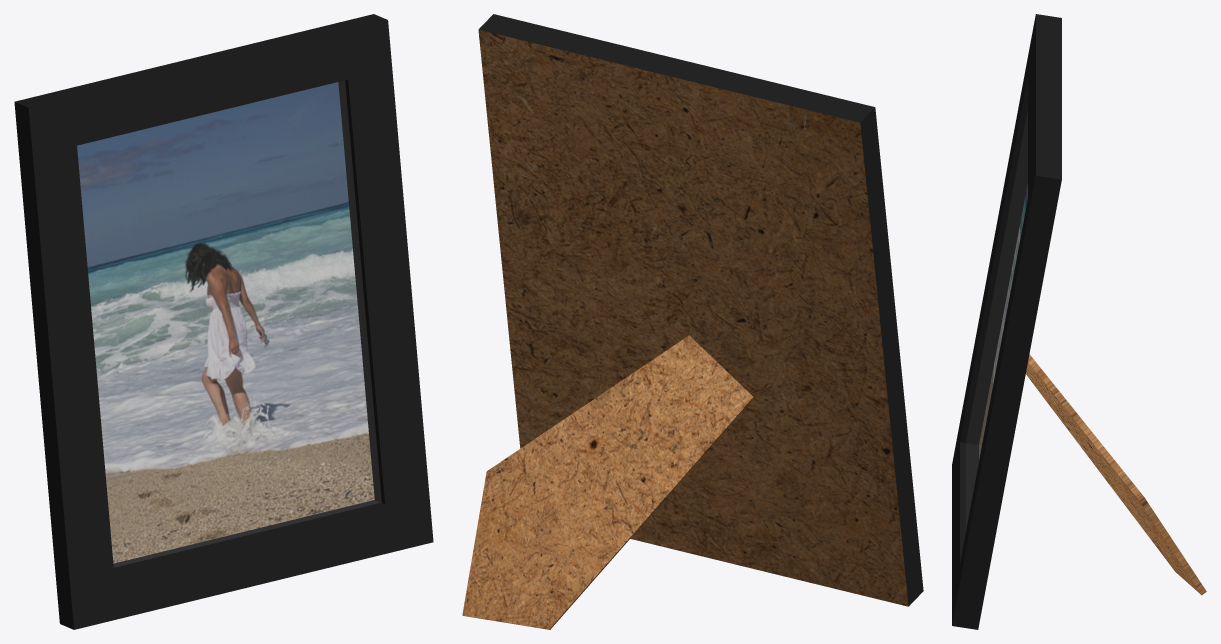
Rendered from Photo 2.FBX.
3 renders of one model, left to right at view 1: azimuth 30°, elevation 25°; view 2: azimuth 150°, elevation 25°; view 3: azimuth 270°, elevation 25°, orthographic. The views are drawn at different scales.
Parts seen in each view (by area): view 1: Photo 2; view 2: Photo 2; view 3: Photo 2.
Boxes of the visible parts, x1,y1,x2,y2 form: Photo 2: (14, 14, 433, 629); Photo 2: (462, 14, 923, 629); Photo 2: (952, 14, 1206, 629).
Bounding box in the file's own units: 21.35 × 27.99 × 14.22.
Materials: 2 (1 with a texture image).
